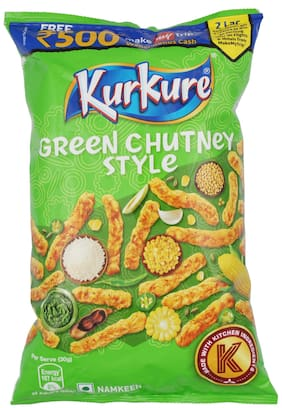kurkure: (56, 68, 227, 122)
plastic: (37, 165, 244, 379)
wrapper: (16, 23, 242, 158)
